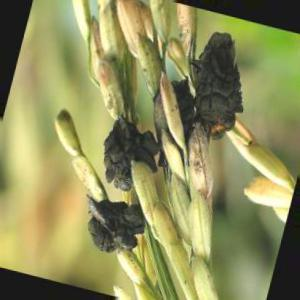Leaf_Scald: (199, 35, 243, 134), (107, 118, 163, 183), (86, 197, 144, 255)
